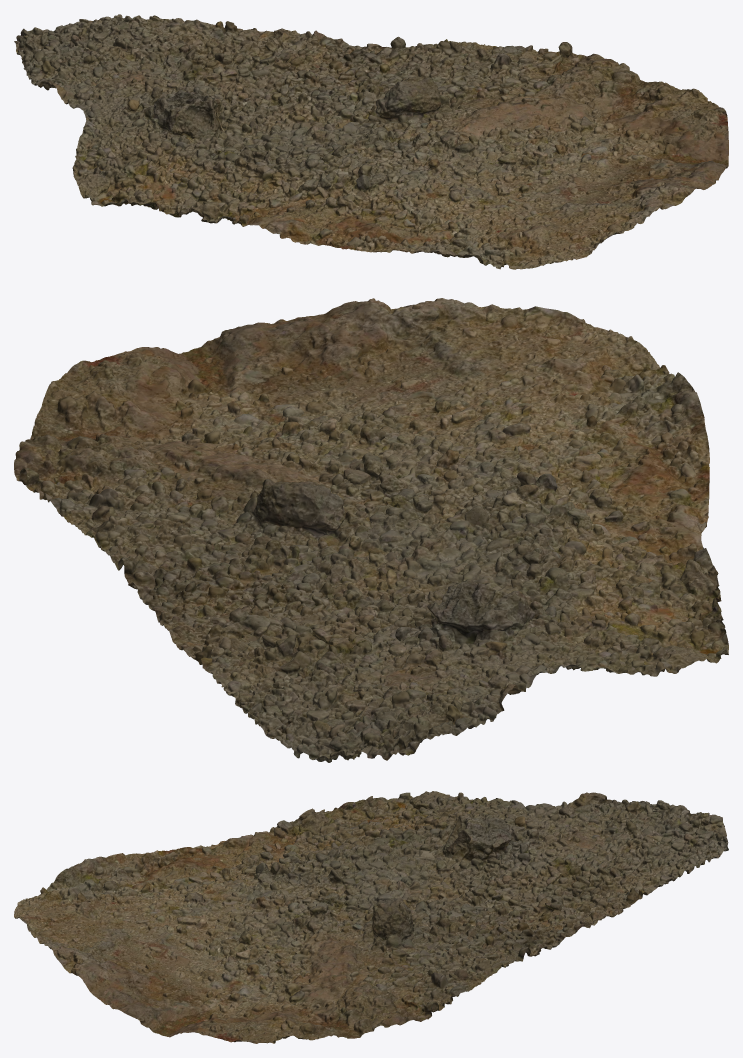
File: coast_land_rocks_04.glb
3 views of the same model, one above another, from view 1: azimuth 30°, elevation 25°; view 2: azimuth 150°, elevation 25°; view 3: azimuth 270°, elevation 25° (orthographic). The views are drawn at different scales.
Visible parts, largest first — view 1: coast_land_rocks_04_LOD0; view 2: coast_land_rocks_04_LOD0; view 3: coast_land_rocks_04_LOD0.
Boxes of the visible parts, <box> form: coast_land_rocks_04_LOD0: <box>14,14,728,269</box>; coast_land_rocks_04_LOD0: <box>14,298,728,762</box>; coast_land_rocks_04_LOD0: <box>14,791,728,1043</box>.
Size of the model in its own units: 9.96 by 0.8458 by 11.5.
1 material, 1 textured.
